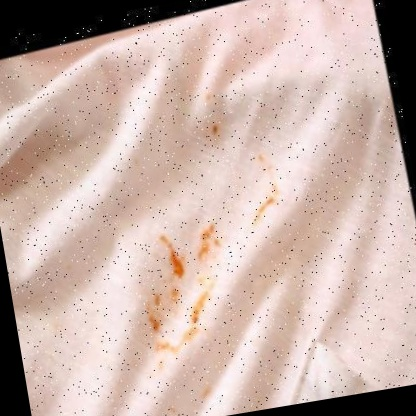kimchi: (251, 146, 283, 195), (157, 230, 187, 279), (189, 219, 224, 259), (243, 196, 285, 225), (153, 331, 201, 354), (141, 305, 166, 337), (191, 285, 221, 305), (194, 382, 214, 401), (189, 306, 210, 324), (147, 289, 165, 309), (207, 122, 226, 140), (170, 288, 184, 308), (151, 357, 167, 374), (161, 401, 178, 416), (199, 90, 214, 106), (55, 321, 65, 332)
